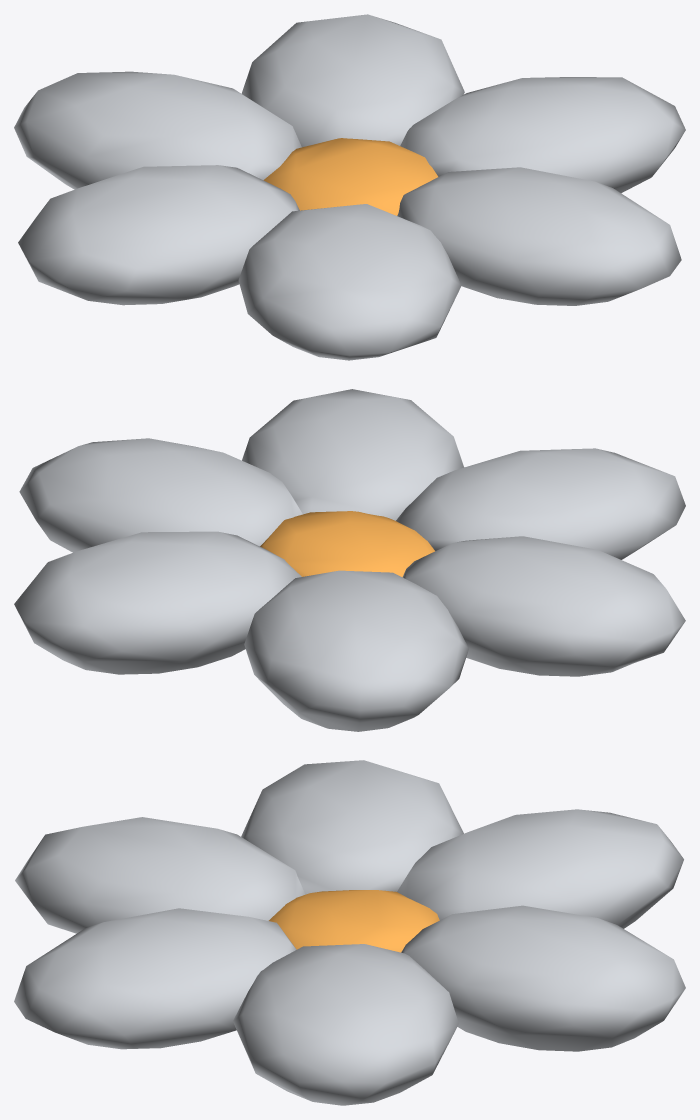
File: flowers1.glb
3 renders of one model, top to bottom at view 1: azimuth 30°, elevation 25°; view 2: azimuth 150°, elevation 25°; view 3: azimuth 270°, elevation 25°, orthographic.
Visible parts, largest first — view 1: flowers1; view 2: flowers1; view 3: flowers1.
Boxes of the visible parts, <box> form: flowers1: <box>14,14,685,360</box>; flowers1: <box>14,389,685,731</box>; flowers1: <box>14,760,685,1105</box>.
Bounding box in the file's own units: 1.6 × 0.2 × 1.43.
